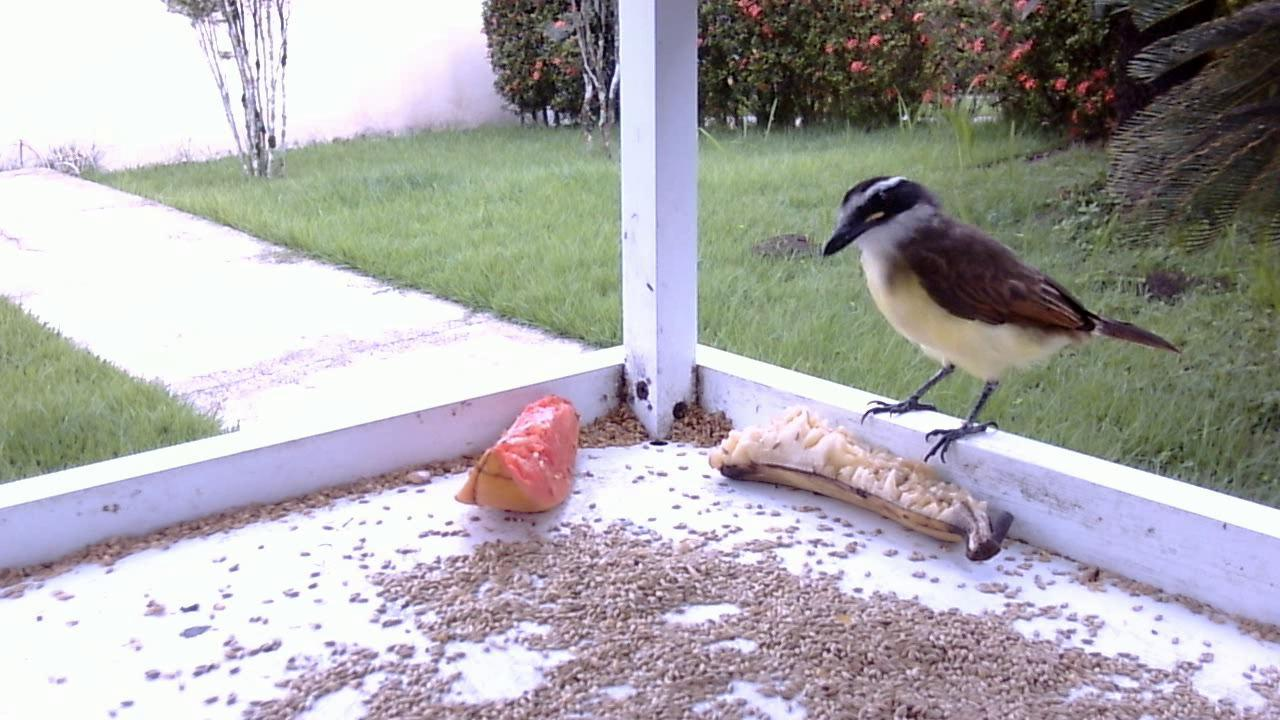bem_te_vi: (808, 158, 1187, 497)
